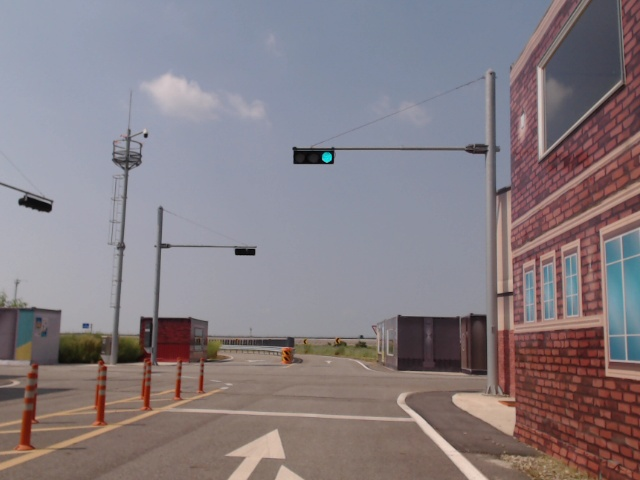green_3: (292, 150, 335, 165)
